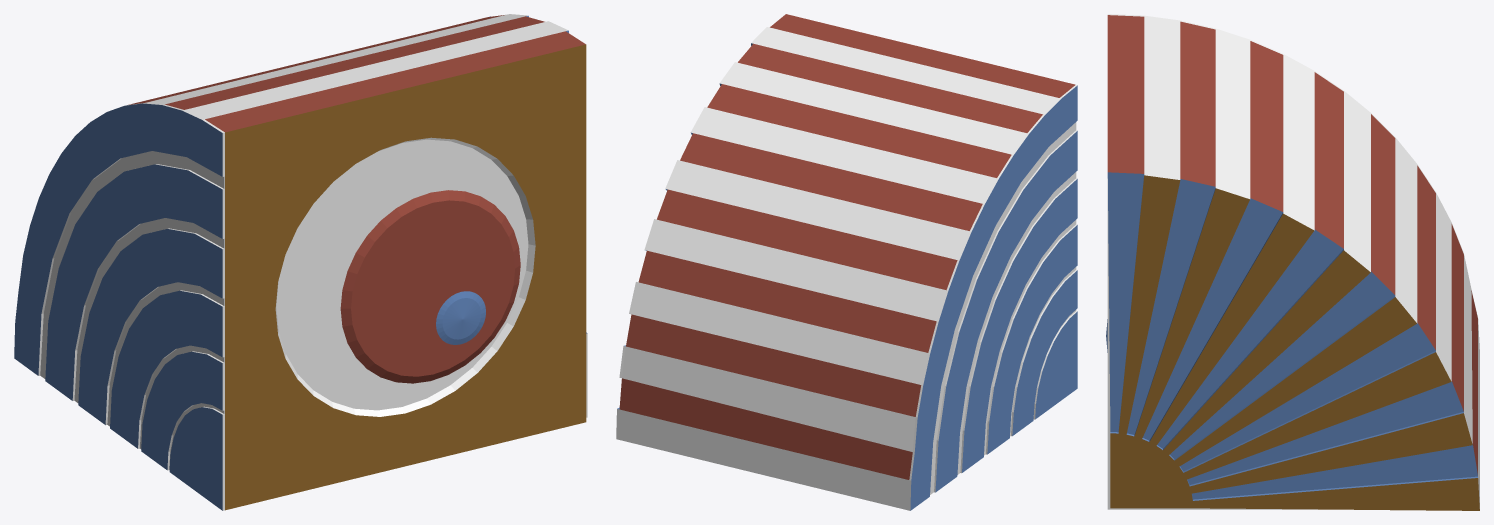
File: EyeCorner1x1.fbx
3 views of the same model, side by side, from view 1: azimuth 30°, elevation 25°; view 2: azimuth 150°, elevation 25°; view 3: azimuth 270°, elevation 25° (orthographic). The views are drawn at different scales.
Parts seen in each view (by area): view 1: EyeCorner1x1, Cube.001, Cube.002; view 2: EyeCorner1x1; view 3: EyeCorner1x1.
Boxes of the visible parts, left/top/right/bottom form: EyeCorner1x1: left=14, top=14, right=587, bottom=510; Cube.001: left=340, top=190, right=520, bottom=383; Cube.002: left=436, top=291, right=485, bottom=344; EyeCorner1x1: left=616, top=14, right=1077, bottom=510; EyeCorner1x1: left=1107, top=14, right=1479, bottom=510.
Bounding box in the file's own units: 1.02 × 1 × 1.
